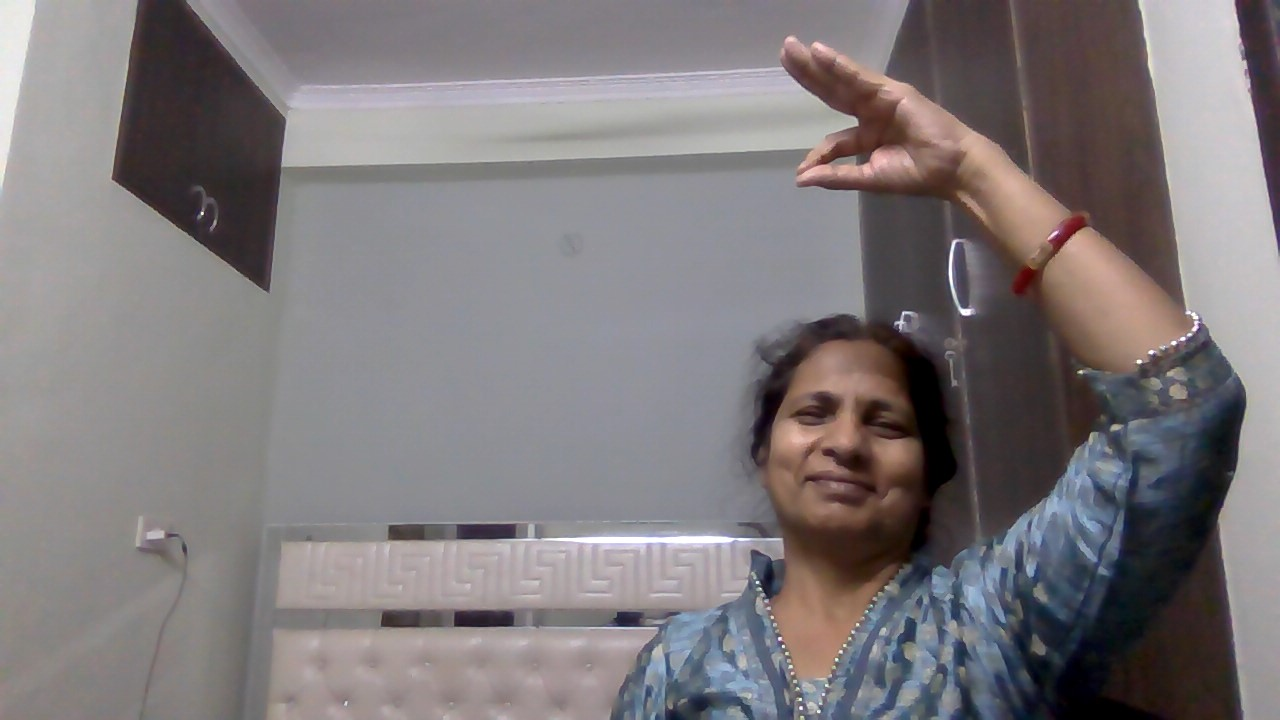Copy: (763, 24, 983, 223)
